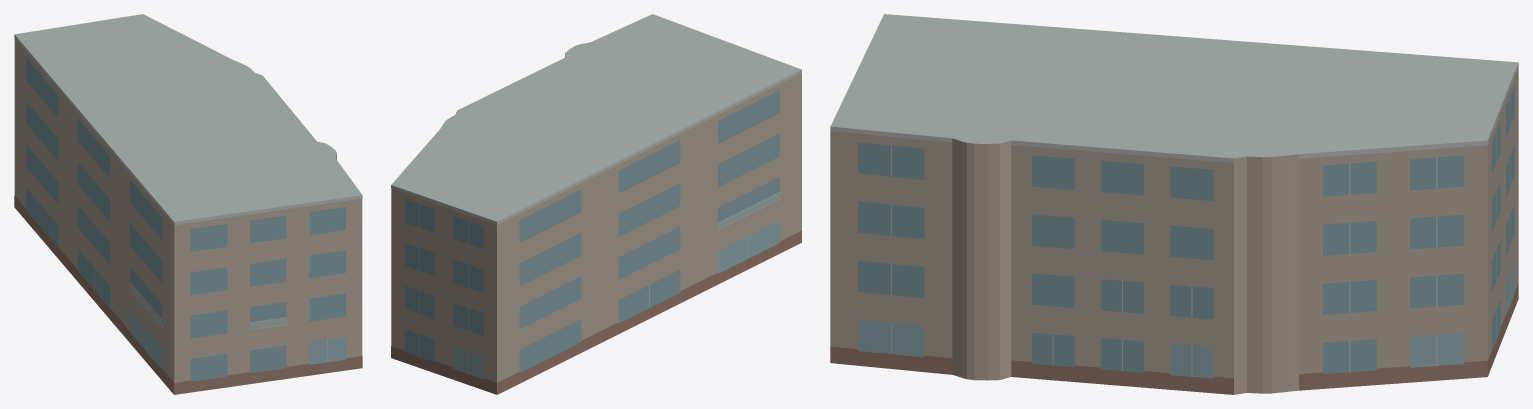
File: survey-upis-32717031.glb
The picture shows the model from 3 angles, left to right: view 1: azimuth 30°, elevation 25°; view 2: azimuth 150°, elevation 25°; view 3: azimuth 270°, elevation 25°; orthographic projection. The views are drawn at different scales.
Visible parts, largest first — view 1: survey-upis-32717031.tmp; view 2: survey-upis-32717031.tmp; view 3: survey-upis-32717031.tmp.
Part boxes in pixels (x1,y1,x2,y2): survey-upis-32717031.tmp: (14, 14, 362, 394); survey-upis-32717031.tmp: (391, 14, 801, 394); survey-upis-32717031.tmp: (830, 14, 1518, 394).
Bounding box in the file's own units: 16.25 × 12.4 × 32.71.
